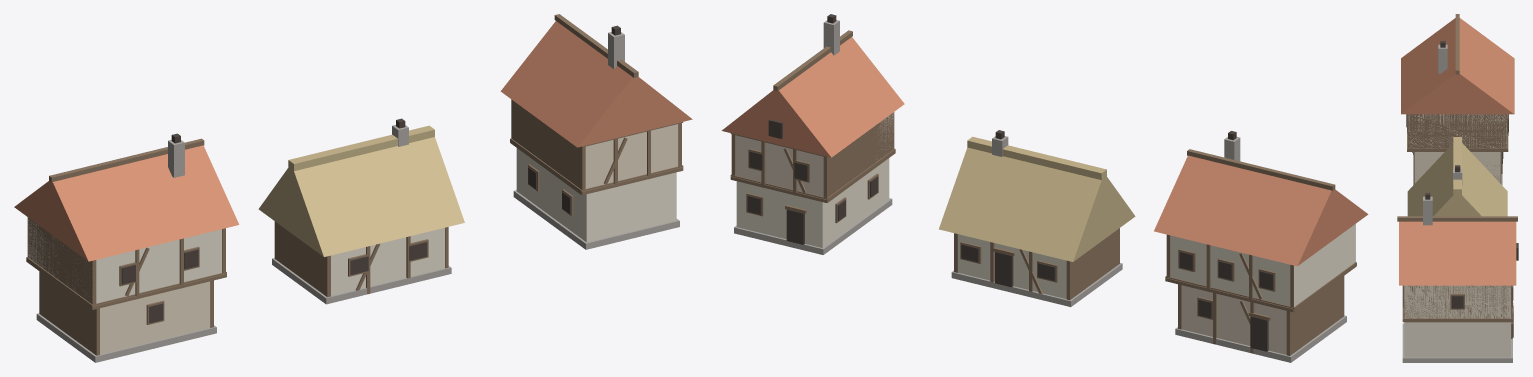
File: houses.glb
3 views of the same model, side by side, from view 1: azimuth 30°, elevation 25°; view 2: azimuth 150°, elevation 25°; view 3: azimuth 270°, elevation 25° (orthographic). The views are drawn at different scales.
Visible parts, largest first — view 1: house_a, house_c, house_b; view 2: house_a, house_c, house_b; view 3: house_c, house_a, house_b.
Boxes of the visible parts, left/top/right/bottom form: house_a: left=14, top=133, right=239, bottom=362; house_c: left=500, top=14, right=692, bottom=249; house_b: left=258, top=118, right=464, bottom=304; house_a: left=1154, top=131, right=1368, bottom=362; house_c: left=721, top=14, right=904, bottom=254; house_b: left=939, top=130, right=1135, bottom=306; house_c: left=1397, top=193, right=1518, bottom=362; house_a: left=1401, top=14, right=1514, bottom=185; house_b: left=1407, top=137, right=1507, bottom=216.
Bounding box in the file's own units: 30.85 × 9.7 × 7.03.
